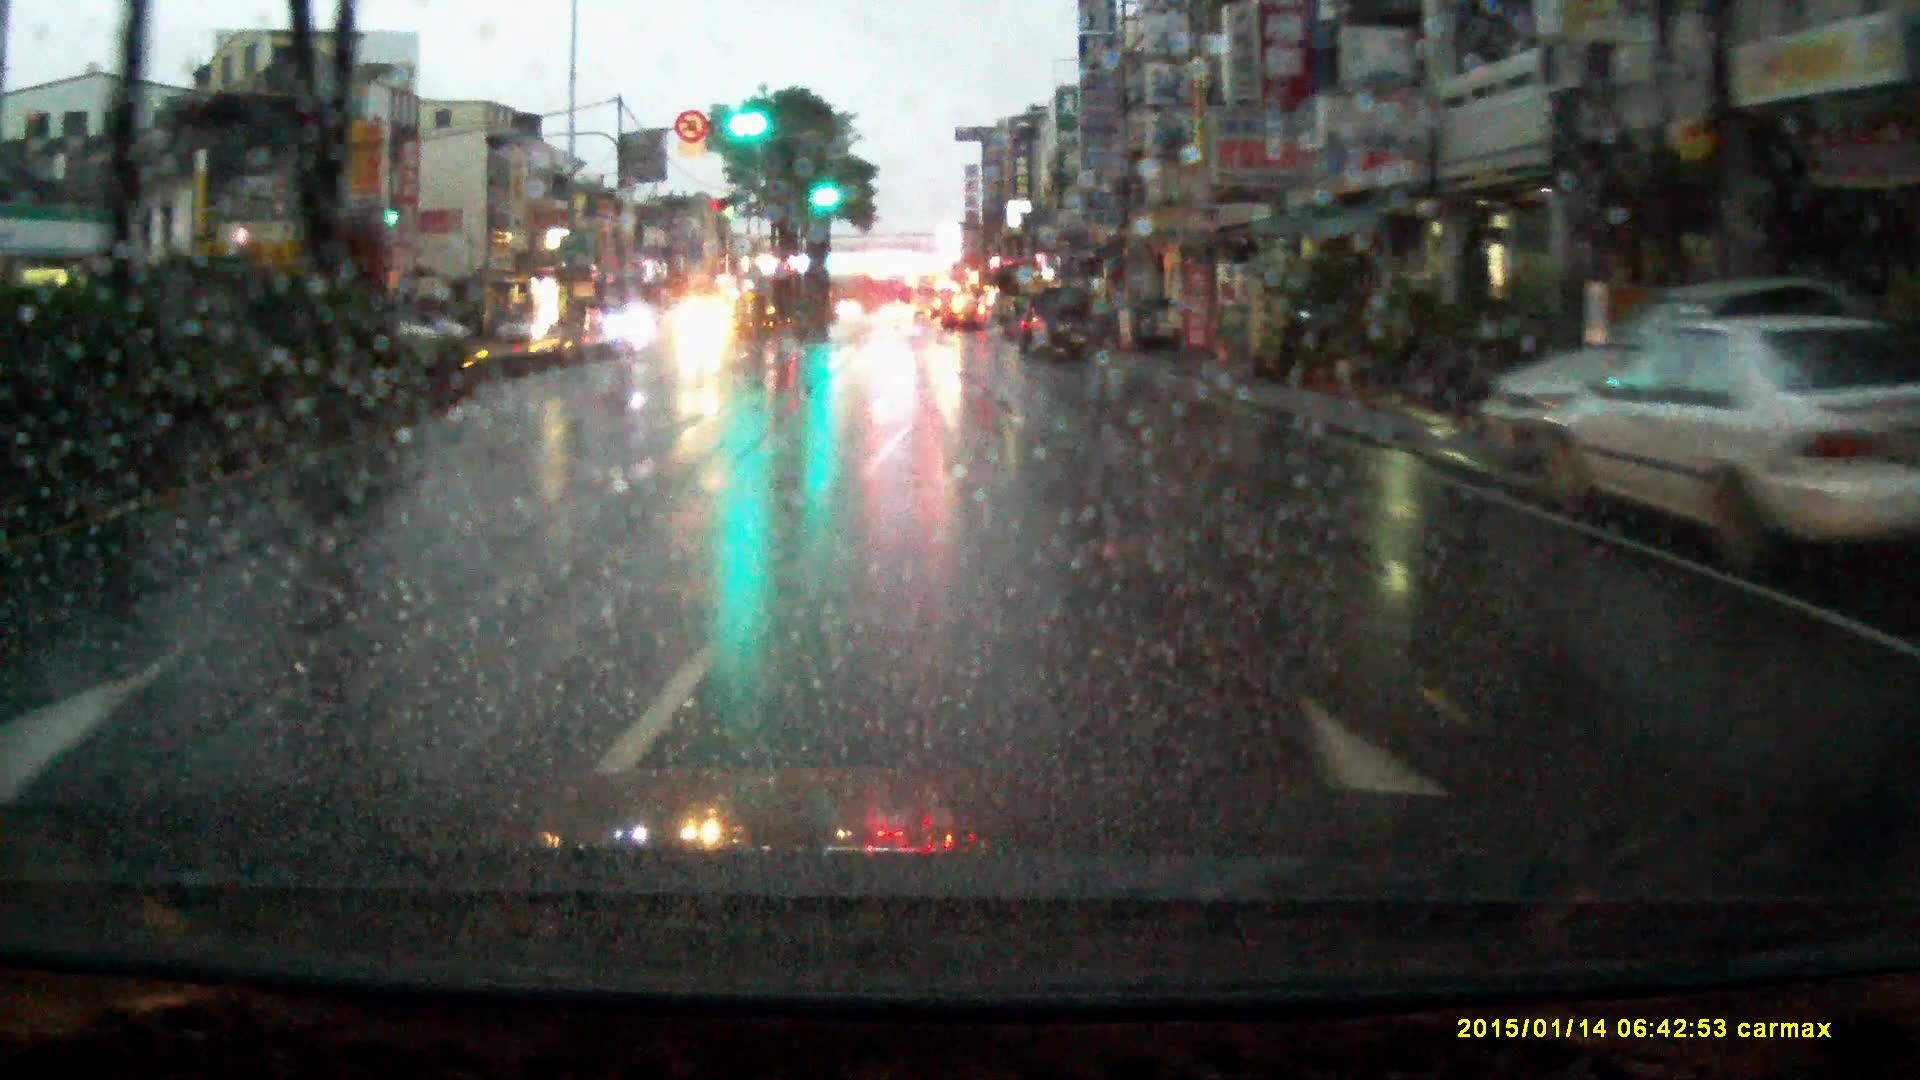vehicle: (1547, 328, 1873, 604), (1462, 278, 1826, 492), (1015, 284, 1100, 365), (671, 301, 738, 351), (601, 302, 662, 342), (491, 309, 553, 345), (942, 295, 988, 334), (911, 276, 943, 320), (880, 302, 916, 326)
